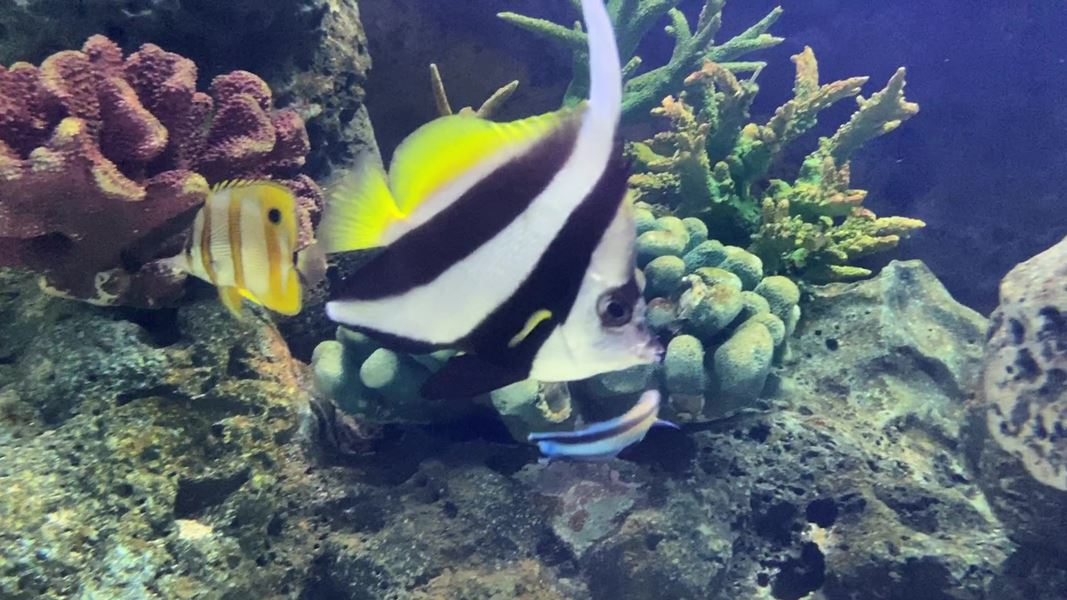Bluesteak cleaner wrasse: (524, 386, 675, 475)
